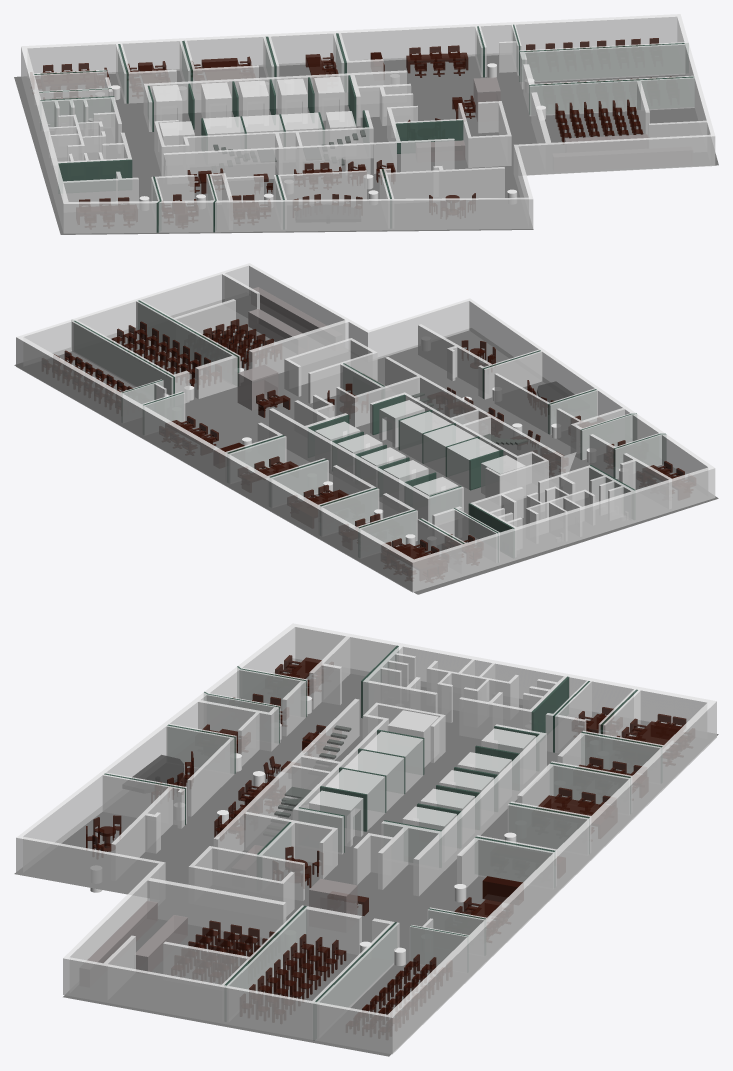
The picture shows the model from 3 angles, top to bottom: view 1: azimuth 30°, elevation 25°; view 2: azimuth 150°, elevation 25°; view 3: azimuth 270°, elevation 25°; orthographic projection. The views are drawn at different scales.
Visible parts, largest first — view 1: piso, suelorender.001, paredes.001, separacion.025, separacion.026, Cube.006, separacion.053, mesa.034, separacion.024, Silla.024, Silla.018, Cube.012 (+27 smaller); view 2: piso, paredes.001, suelorender.001, separacion.025, mesa.033, separacion.026, mesa.034, Silla.024, Cube.006, mesa.007, Cube.019, Cube.003 (+36 smaller); view 3: piso, suelorender.001, paredes.001, mesa.033, mesa.034, mesa.007, separacion.025, separacion.031, separacion.032, Cube.003, Cube.006, separacion.026 (+41 smaller).
Boxes of the visible parts, box(x1,y1,x2,y2) form: piso: box(21, 14, 715, 233); suelorender.001: box(14, 54, 718, 234); paredes.001: box(34, 24, 707, 229); separacion.025: box(519, 43, 688, 81); separacion.026: box(529, 76, 694, 114); Cube.006: box(553, 147, 692, 171); separacion.053: box(58, 159, 132, 193); mesa.034: box(555, 99, 643, 144); separacion.024: box(395, 120, 463, 153); Silla.024: box(30, 63, 109, 93); Silla.018: box(406, 45, 468, 77); Cube.012: box(238, 80, 268, 126); piso: box(16, 263, 715, 592); paredes.001: box(72, 273, 671, 572); suelorender.001: box(14, 296, 718, 594); separacion.025: box(71, 320, 174, 394); mesa.033: box(111, 321, 221, 388); separacion.026: box(138, 300, 239, 385); mesa.034: box(200, 319, 281, 370); Silla.024: box(381, 538, 448, 582); Cube.006: box(251, 287, 342, 345); mesa.007: box(42, 350, 132, 413); Cube.019: box(447, 438, 498, 489); Cube.003: box(237, 364, 278, 410); piso: box(16, 623, 716, 1054); suelorender.001: box(14, 659, 718, 1056); paredes.001: box(102, 636, 663, 1036); mesa.033: box(240, 934, 346, 1023); mesa.034: box(171, 920, 278, 983); mesa.007: box(346, 954, 451, 1039); separacion.025: box(313, 922, 396, 1040); separacion.031: box(475, 836, 555, 881); separacion.032: box(509, 802, 589, 853); Cube.003: box(309, 878, 357, 931); Cube.006: box(80, 900, 157, 986); separacion.026: box(224, 905, 306, 1021).
Size of what is drawn, in the model's own units: 31.63 by 1.69 by 23.64.
